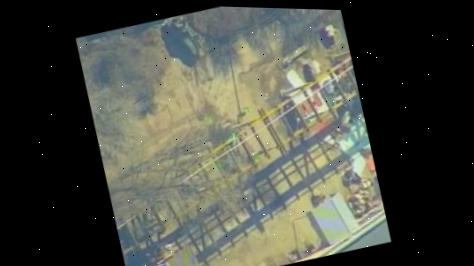sau: (158, 10, 208, 62)
